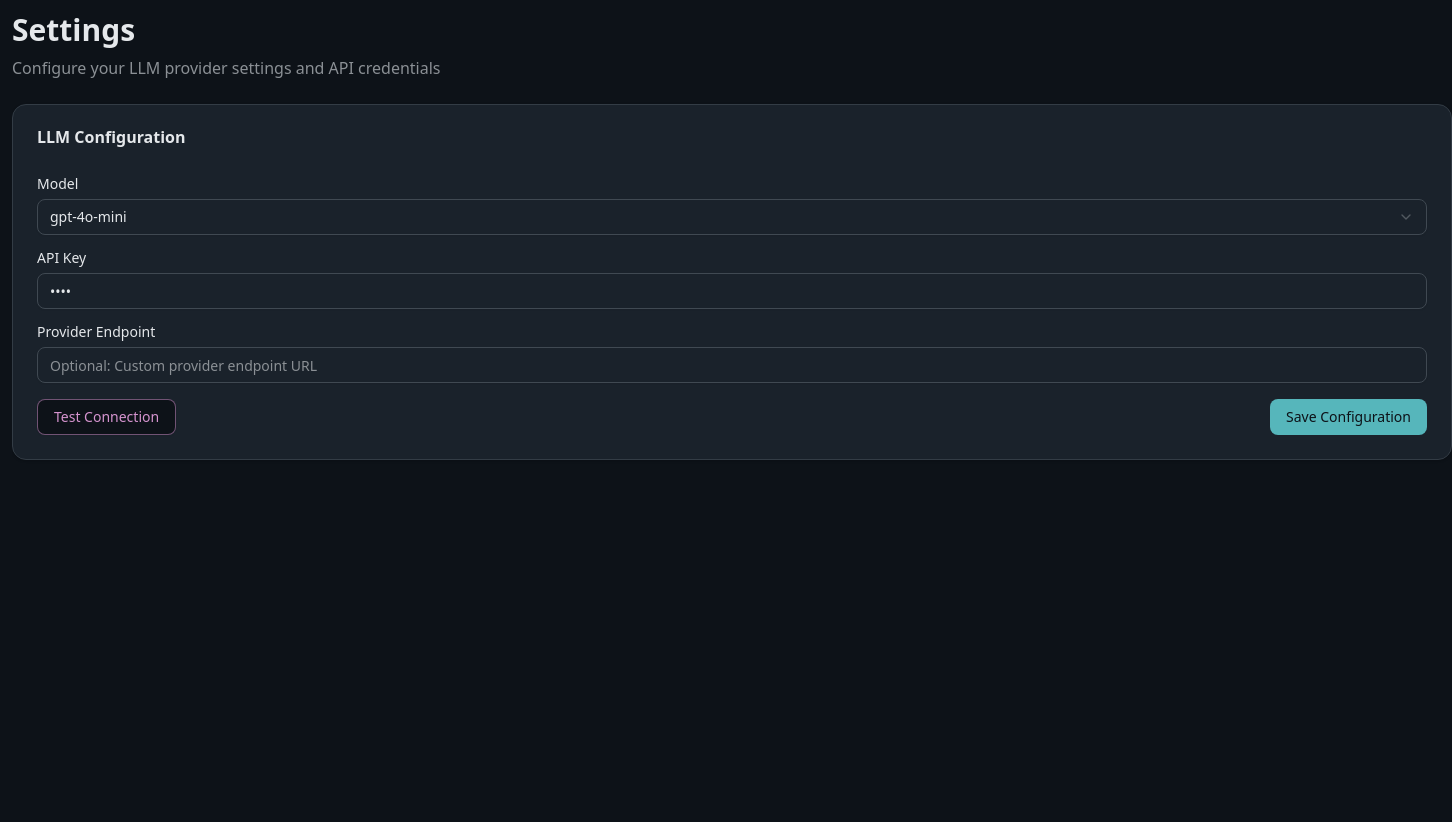
Test: Settings Form Save and Validation Integration Test › should enter valid API key and save configuration successfully
Type "sk-test-valid-api-key-12345" into the password field labelled "API Key".
click(732, 291); type("sk-test-valid-api-key-12345")  # box x1=37 y1=273 x2=1427 y2=309
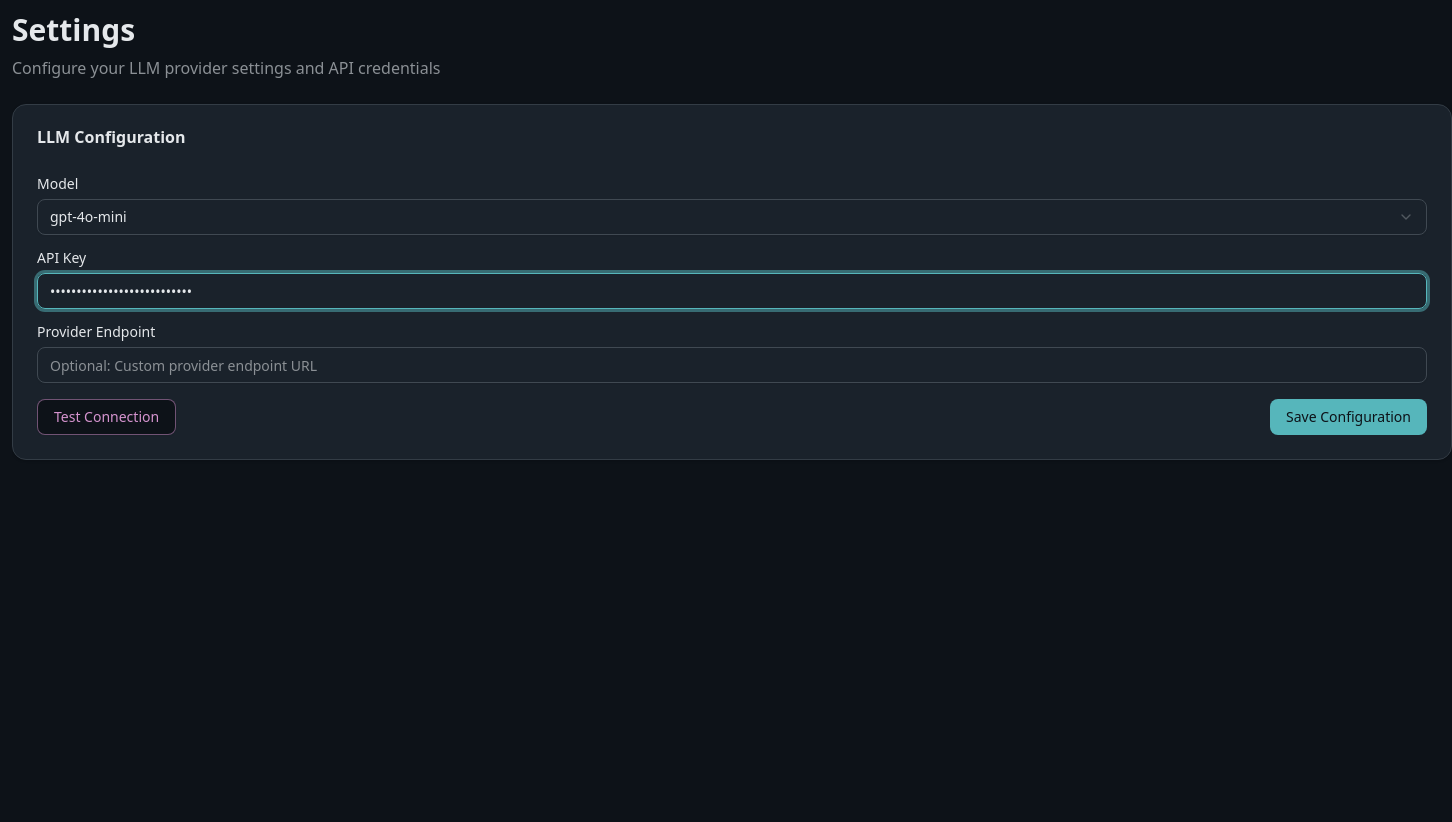
Click the button "Save Configuration".
click(1348, 417)  # box x1=1270 y1=399 x2=1427 y2=435
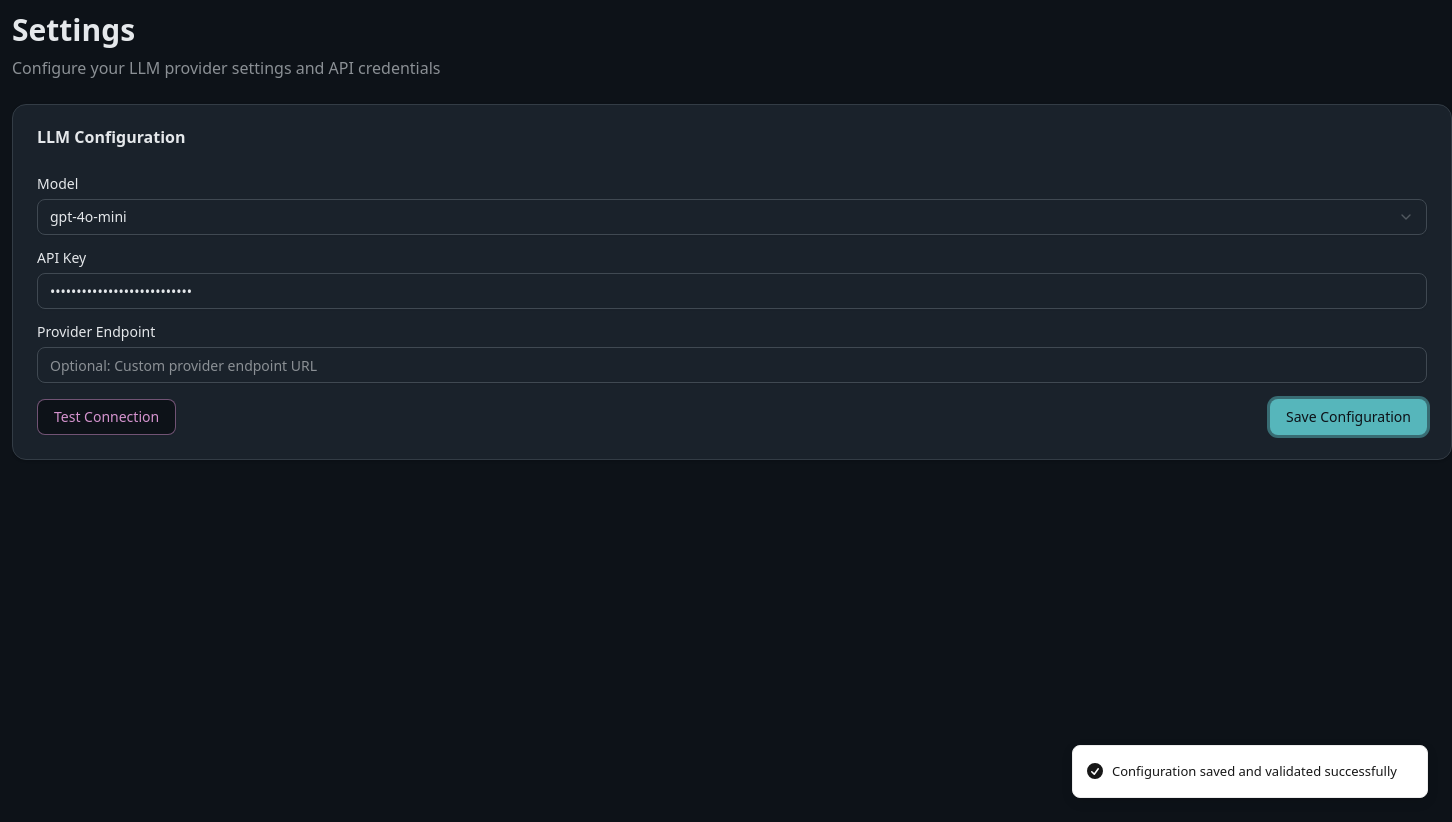
Check: the text "Configuration saved and validated successfully" is shown, box x1=1112 y1=762 x2=1397 y2=781
